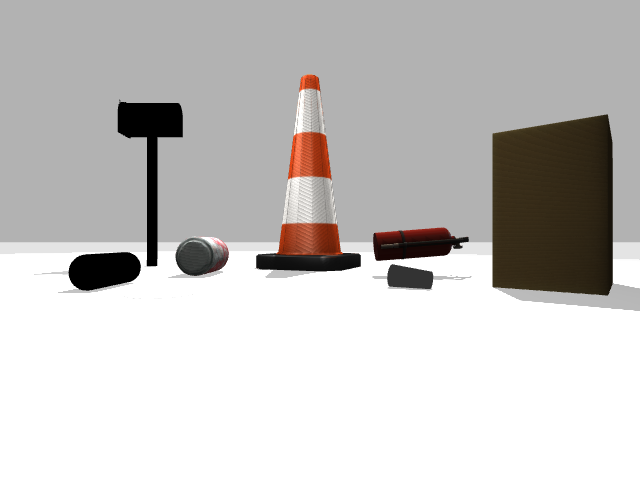boite_lettres: (117, 102, 182, 266)
bouteille_verre: (69, 252, 140, 290)
canette: (176, 237, 228, 275)
carton: (493, 115, 612, 294)
cone_chantier: (257, 75, 360, 272)
extincteur: (373, 228, 468, 260)
gobelet: (387, 264, 433, 288)
